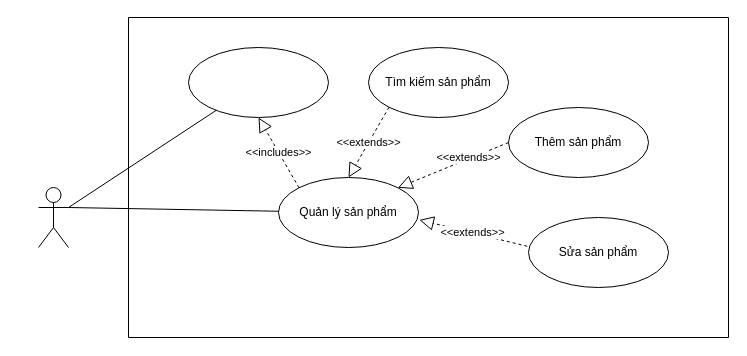
Image size: 747x356. Some labels were removed from this diagram. Each missing label, with the centre of its shape:
"Nhân viên QL" goes at (x=53, y=217).
"Đăng nhập" goes at (x=258, y=82).
